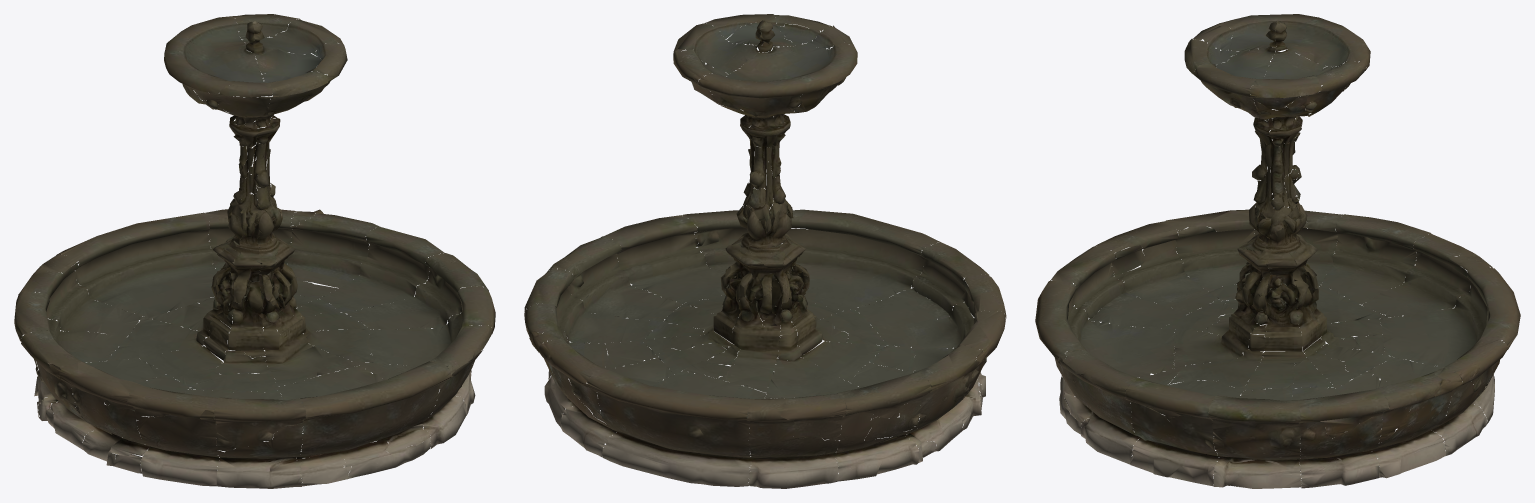
The model's file is sunward_fountain.glb.
3 renders of one model, left to right at view 1: azimuth 30°, elevation 25°; view 2: azimuth 150°, elevation 25°; view 3: azimuth 270°, elevation 25°, orthographic.
Visible parts, largest first — view 1: tripo_node_b767d551-7064-4d59-84a5-ddb2e972b4f6; view 2: tripo_node_b767d551-7064-4d59-84a5-ddb2e972b4f6; view 3: tripo_node_b767d551-7064-4d59-84a5-ddb2e972b4f6.
Boxes of the visible parts, bbox=[...] form: tripo_node_b767d551-7064-4d59-84a5-ddb2e972b4f6: bbox=[14, 14, 495, 488]; tripo_node_b767d551-7064-4d59-84a5-ddb2e972b4f6: bbox=[524, 14, 1006, 488]; tripo_node_b767d551-7064-4d59-84a5-ddb2e972b4f6: bbox=[1035, 14, 1520, 488].
Size of the model in its own units: 2.79 by 2.4 by 2.8.
Materials: 1 (1 with a texture image).
